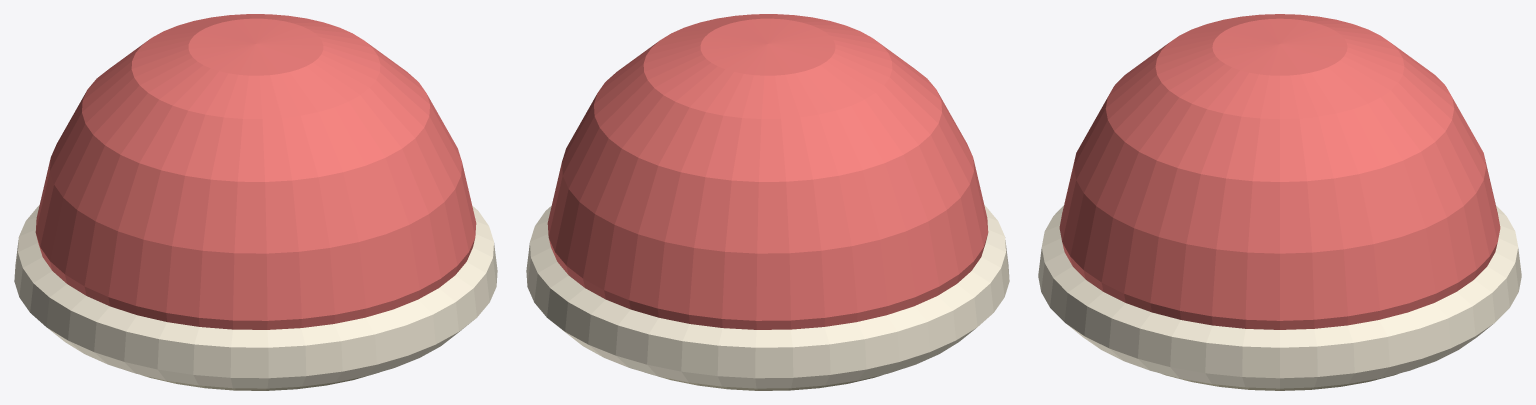
File: red_shell.glb
The picture shows the model from 3 angles, left to right: view 1: azimuth 30°, elevation 25°; view 2: azimuth 150°, elevation 25°; view 3: azimuth 270°, elevation 25°; orthographic projection.
Parts seen in each view (by area): view 1: colored_dome, outer_lip, underside; view 2: colored_dome, outer_lip, underside; view 3: colored_dome, outer_lip, underside.
Part boxes in pixels (x1,y1,x2,y2): colored_dome: (35,14,476,329); outer_lip: (14,205,497,388); underside: (141,372,378,390); colored_dome: (547,14,988,329); outer_lip: (526,205,1009,388); underside: (645,372,882,390); colored_dome: (1059,14,1500,329); outer_lip: (1038,205,1521,388); underside: (1161,373,1398,390).
Size of the model in its own units: 1.36 by 0.9 by 1.36.
